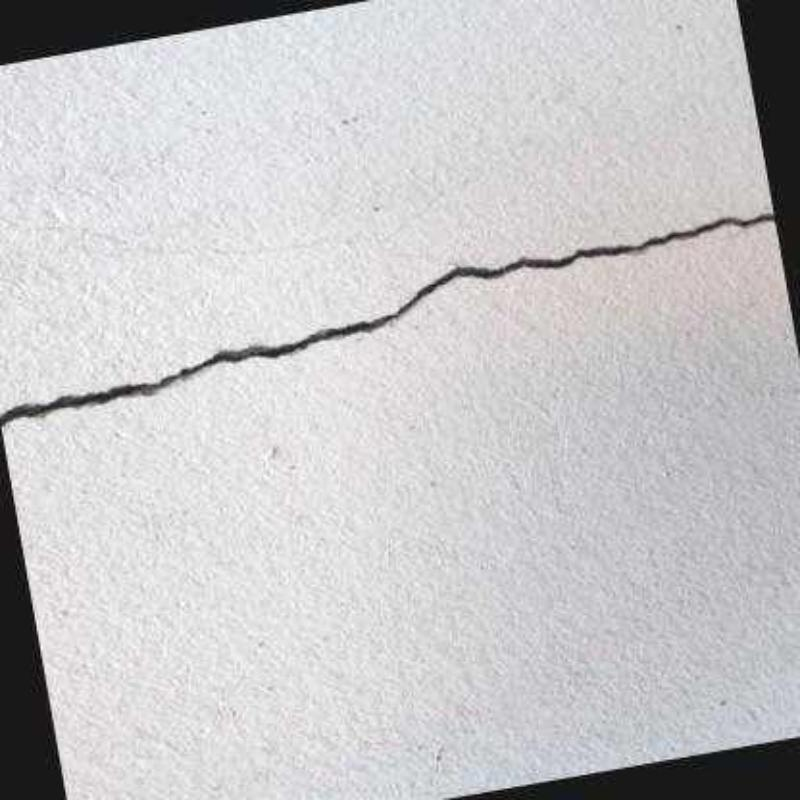pothole: (0, 212, 775, 426)
